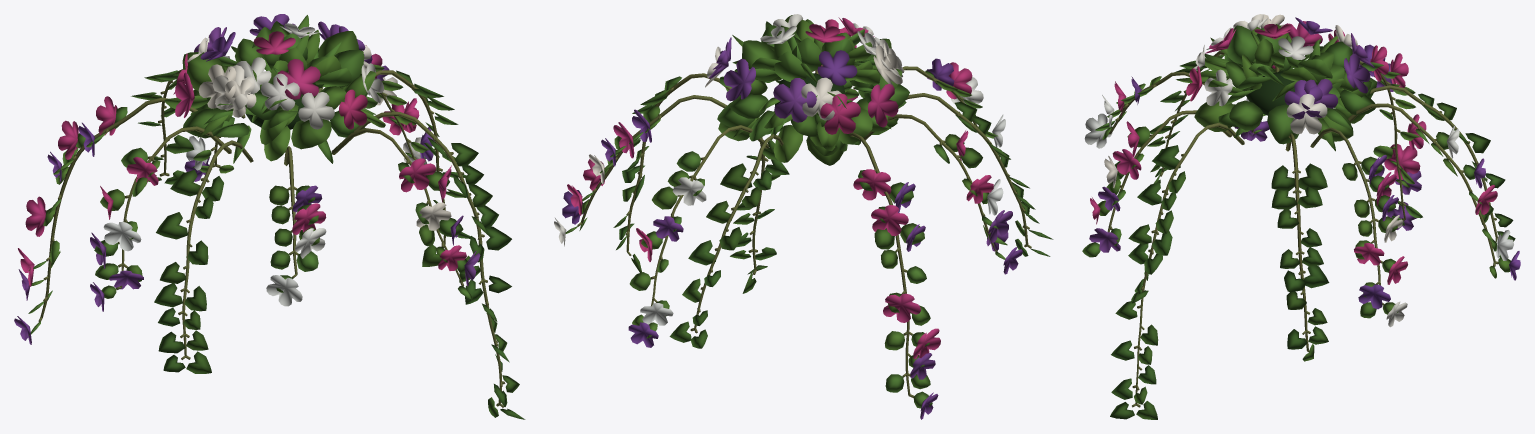
Rendered from basket_trailing_purple.glb.
The picture shows the model from 3 angles, left to right: view 1: azimuth 30°, elevation 25°; view 2: azimuth 150°, elevation 25°; view 3: azimuth 270°, elevation 25°; orthographic projection. The views are drawn at different scales.
Visible parts, largest first — view 1: Sammel Pflanze, Sammel Putz; view 2: Sammel Pflanze, Sammel Putz; view 3: Sammel Pflanze, Sammel Putz, Sammel Blatt.
Part boxes in pixels (bbox=[...]): Sammel Pflanze: bbox=[14, 14, 525, 419]; Sammel Putz: bbox=[38, 69, 505, 407]; Sammel Pflanze: bbox=[554, 14, 1053, 419]; Sammel Putz: bbox=[577, 66, 1031, 397]; Sammel Pflanze: bbox=[1082, 14, 1520, 419]; Sammel Putz: bbox=[1107, 50, 1498, 407]; Sammel Blatt: bbox=[1246, 71, 1294, 115].
Size of the model in its own units: 0.7221 by 0.6045 by 0.7342.
